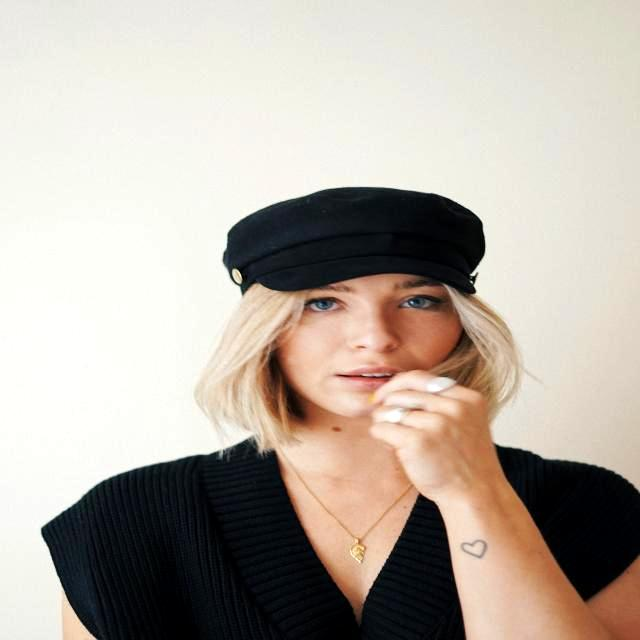no_hard_hat: (224, 188, 485, 292)
person: (22, 185, 640, 639)
